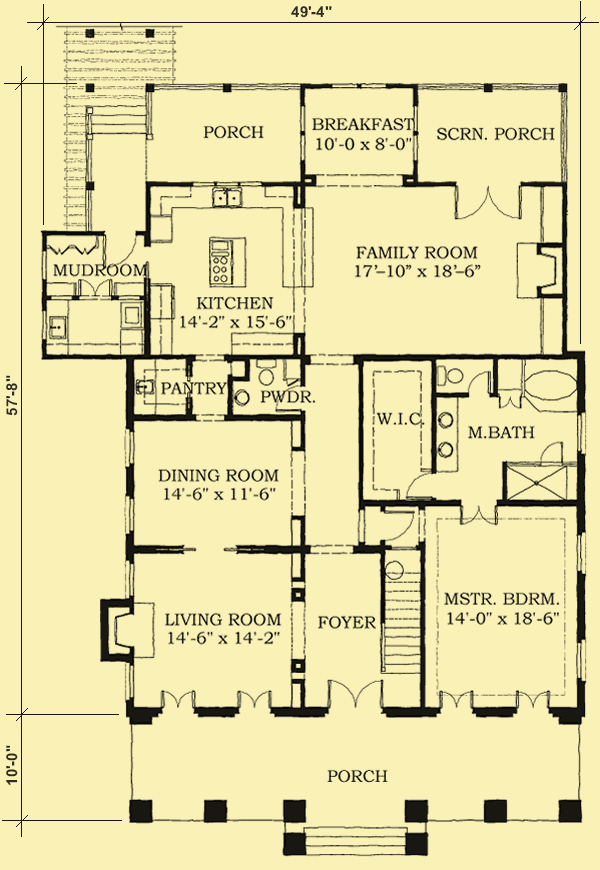laundry has washer and dryer: (38, 297, 148, 362)
small bathroom with large sink and small sink: (227, 353, 307, 423)
this bathroom has a shower space with bathtub and small and large sink: (431, 355, 589, 508)
this kitchen has a kitchen bar with twin sink: (148, 183, 304, 360)
